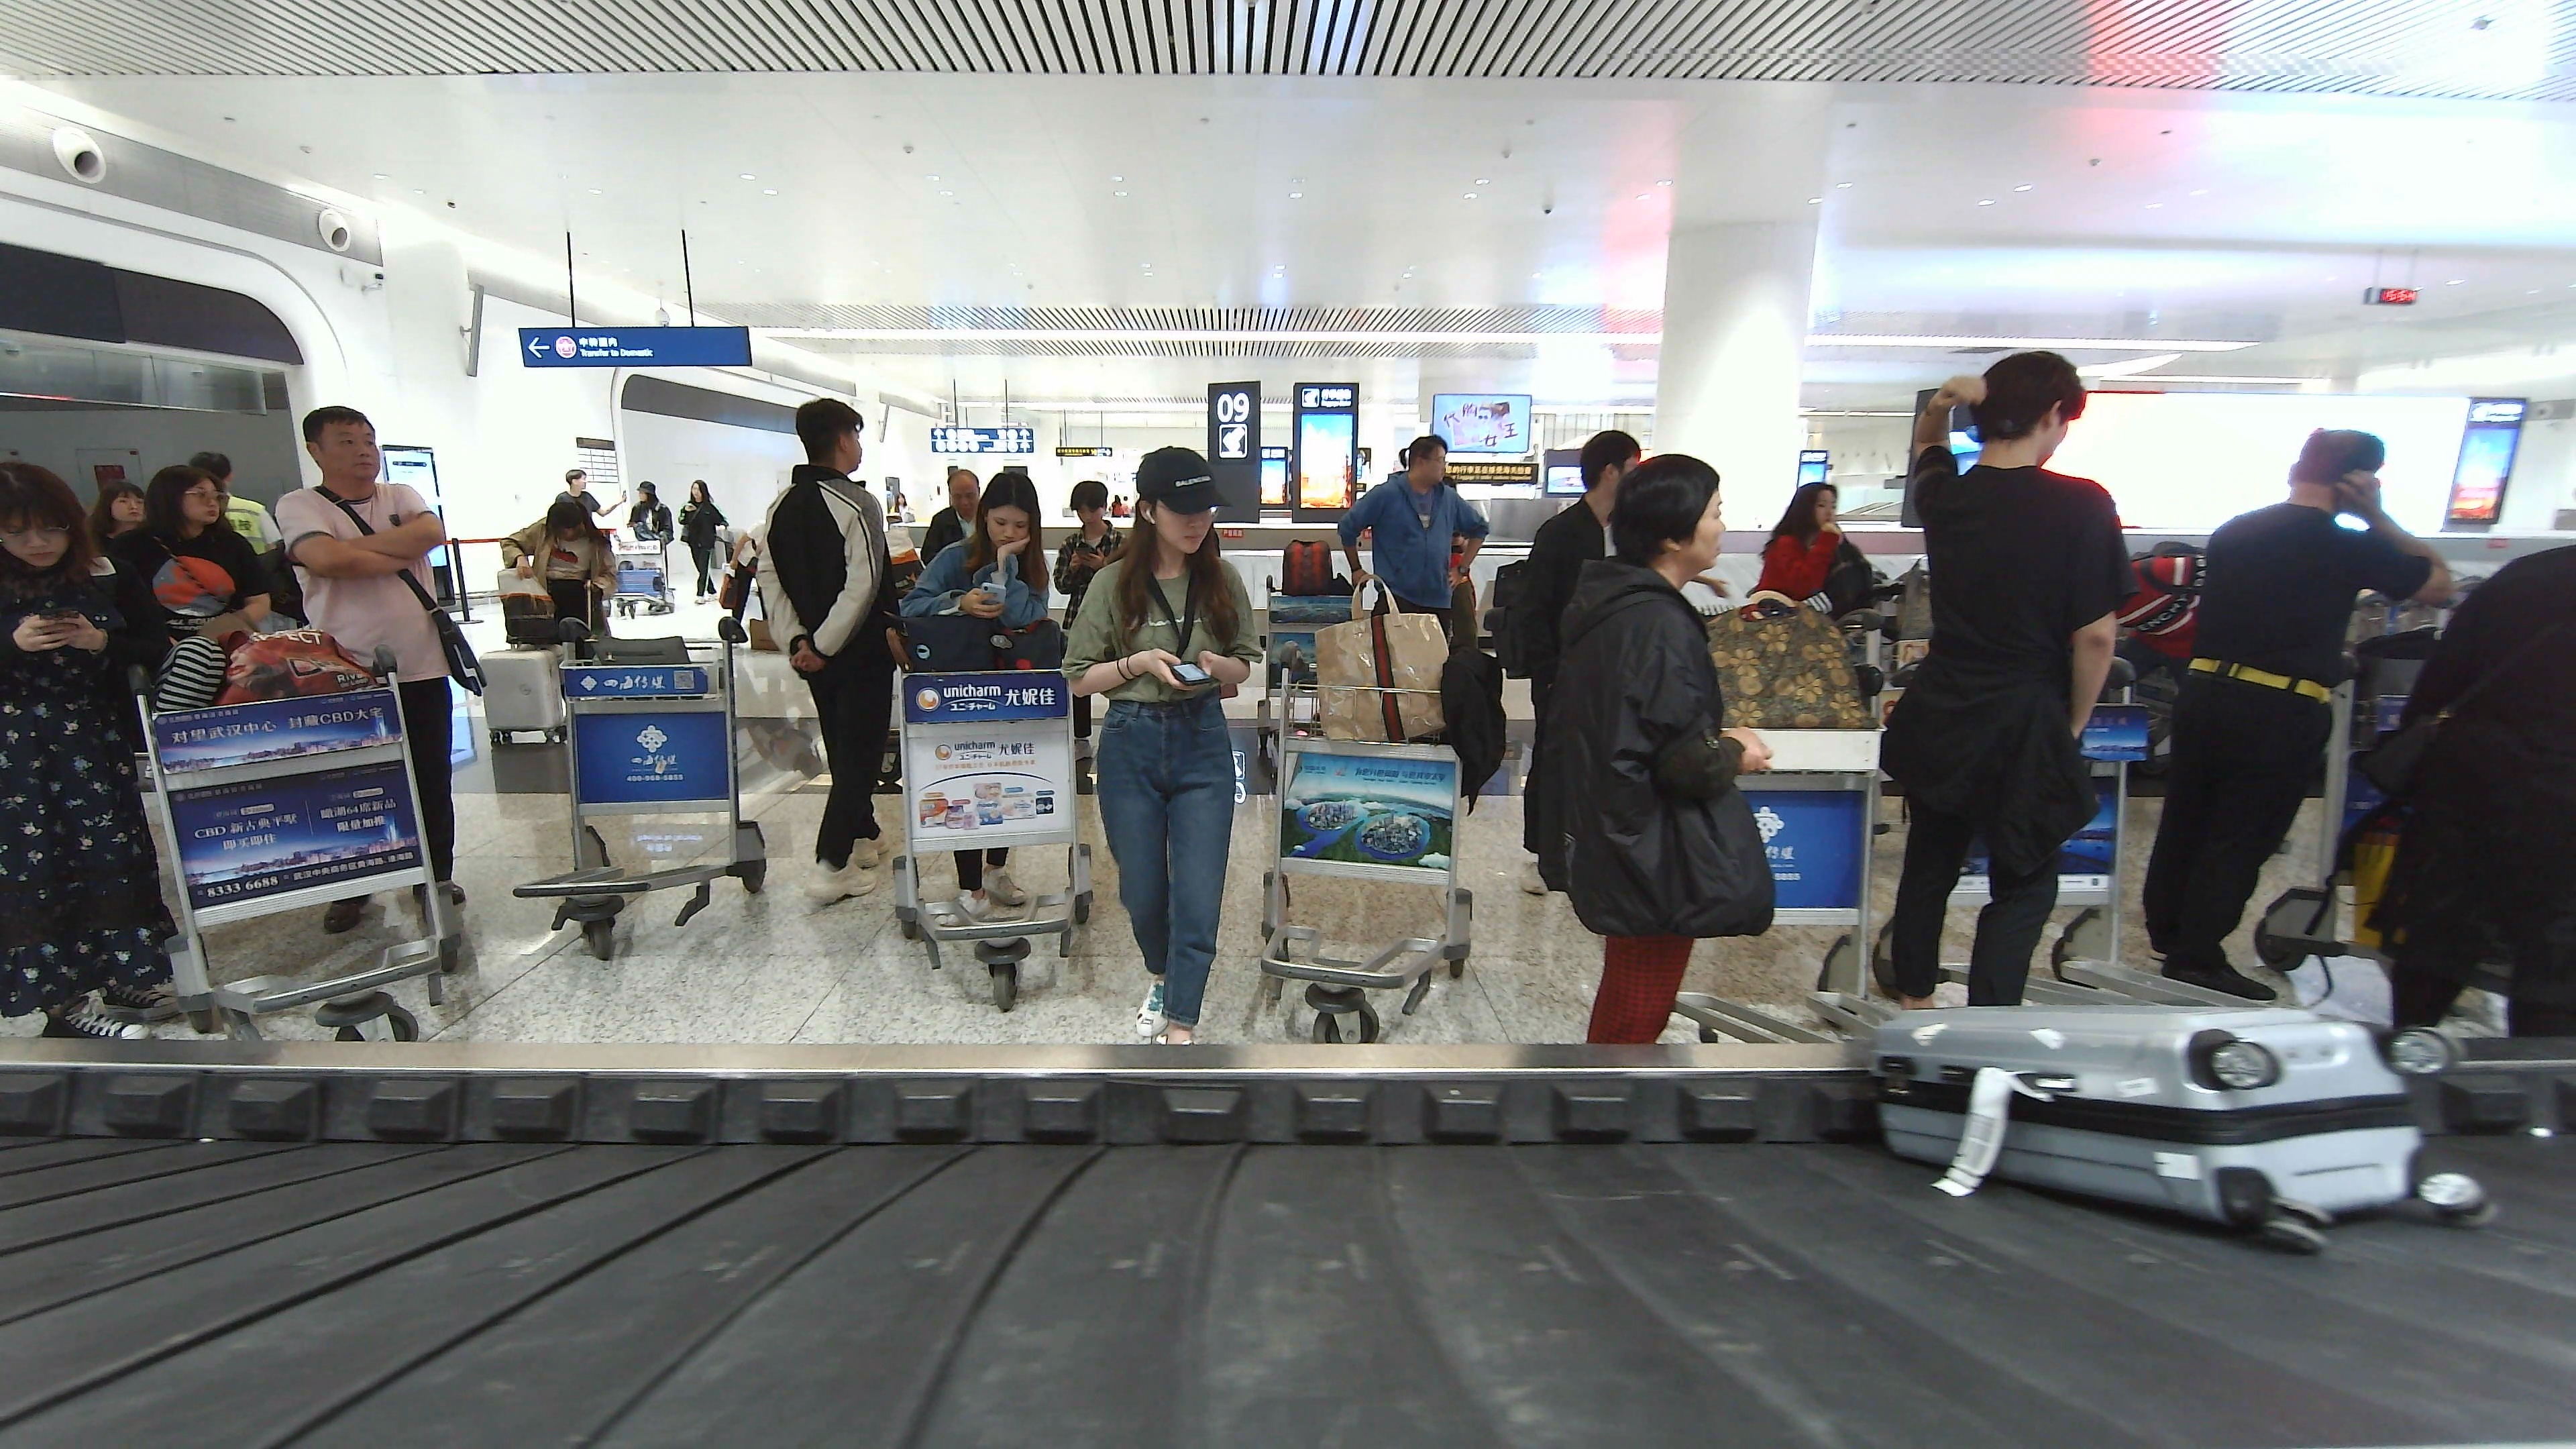box: (1876, 996, 2483, 1253)
face: (1, 479, 73, 568), (321, 419, 379, 478), (987, 504, 1029, 549), (181, 475, 221, 522), (111, 489, 143, 521), (1422, 445, 1447, 480)
people: (1886, 343, 2144, 682), (1571, 446, 1772, 802), (1066, 444, 1261, 714), (2179, 425, 2453, 606), (753, 394, 890, 679), (1, 455, 172, 668), (274, 400, 445, 576), (898, 463, 1053, 627)
